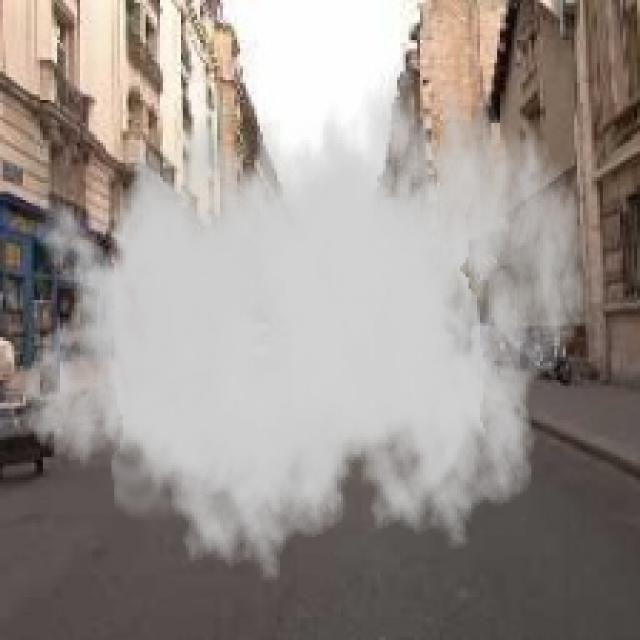Smoke: (23, 26, 586, 592)
